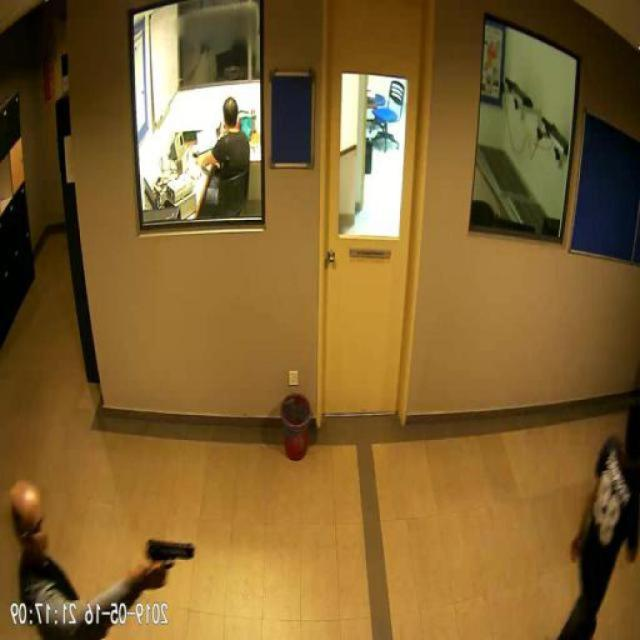pistol: (149, 536, 195, 588)
